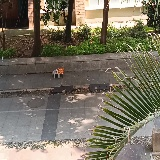fire: (57, 67, 64, 74)
